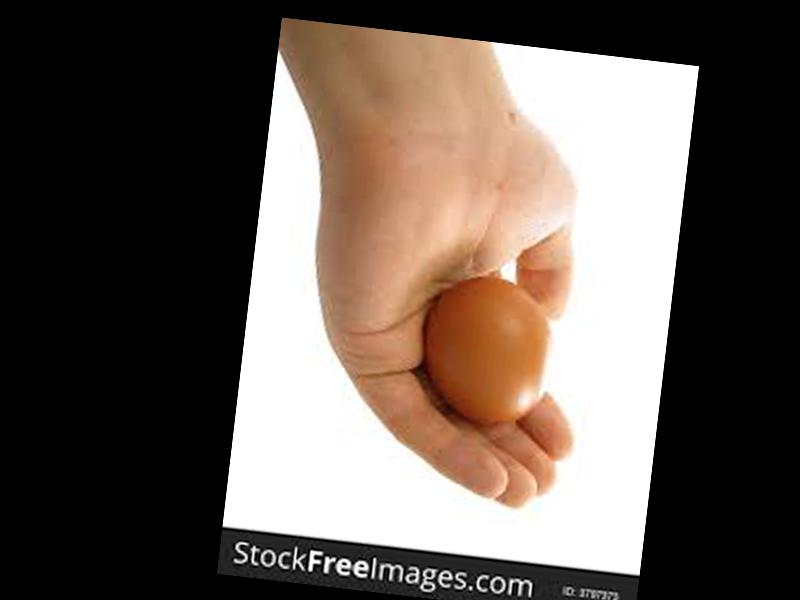Eggs: (417, 269, 558, 440)
